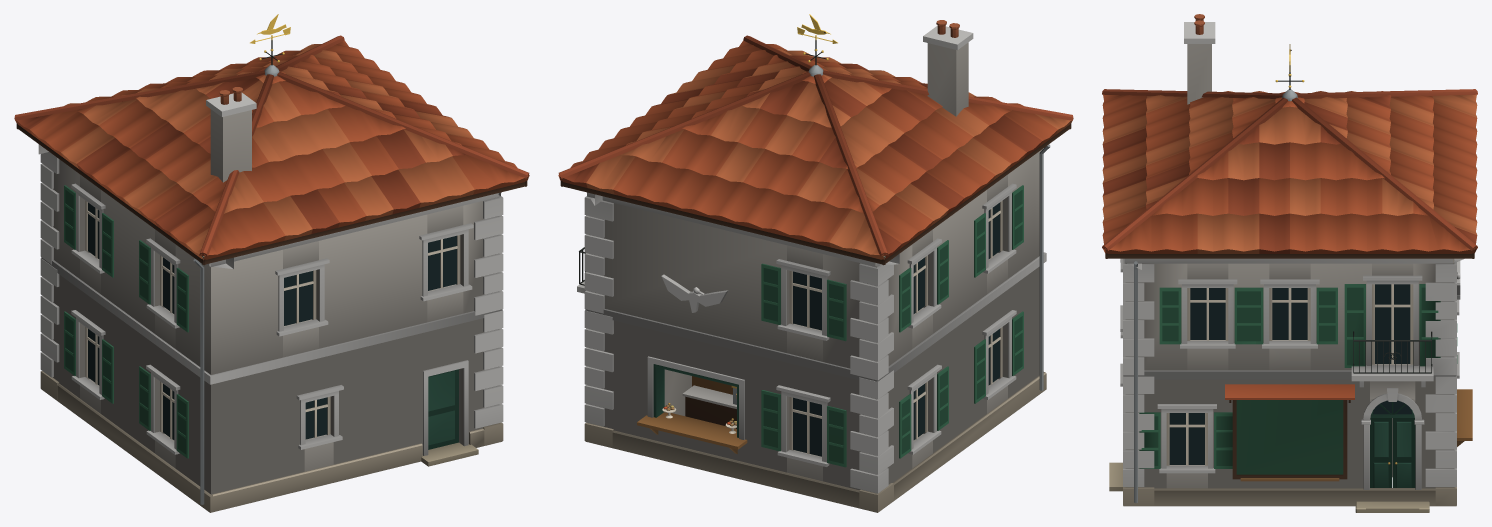
3 views of the same model, side by side, from view 1: azimuth 30°, elevation 25°; view 2: azimuth 150°, elevation 25°; view 3: azimuth 270°, elevation 25° (orthographic).
Visible parts, largest first — view 1: static_cafe; view 2: static_cafe; view 3: static_cafe.
Boxes of the visible parts, x1,y1,x2,y2 form: static_cafe: (14,35,529,512); static_cafe: (558,20,1073,512); static_cafe: (1102,14,1477,512).
Bounding box in the file's own units: 9.2 × 10.61 × 9.16.
